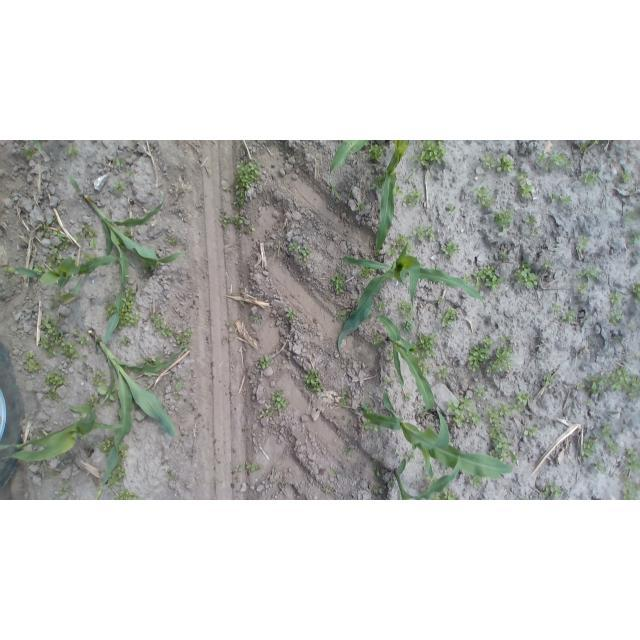Maize: (69, 176, 184, 354), (338, 240, 486, 361), (67, 331, 175, 486), (363, 392, 513, 478), (1, 407, 124, 461), (378, 315, 438, 411), (15, 255, 137, 302), (376, 140, 408, 254), (394, 456, 460, 500), (332, 140, 369, 201)
Weeds: (607, 365, 639, 400), (236, 162, 260, 207), (487, 346, 513, 372), (488, 405, 507, 440), (41, 317, 61, 348), (515, 261, 537, 289), (467, 346, 490, 372), (420, 146, 442, 166), (517, 172, 534, 196), (475, 188, 495, 208), (586, 376, 605, 397), (82, 224, 98, 248), (305, 370, 323, 391), (622, 477, 638, 500), (493, 210, 513, 228), (417, 333, 436, 351), (47, 374, 66, 391), (575, 264, 598, 278), (125, 288, 135, 320), (625, 452, 640, 473), (485, 276, 503, 292), (93, 373, 106, 395), (497, 156, 514, 172), (536, 154, 552, 171), (583, 438, 595, 458), (272, 392, 287, 408), (61, 344, 76, 359), (399, 301, 413, 317), (331, 274, 345, 290), (404, 190, 420, 204), (114, 492, 138, 501), (471, 270, 485, 285), (370, 144, 383, 160), (447, 403, 463, 416), (123, 306, 134, 324), (179, 329, 192, 344), (256, 356, 271, 369), (606, 436, 618, 452), (468, 410, 480, 425), (580, 172, 596, 183), (438, 314, 451, 327), (460, 396, 473, 409), (446, 242, 460, 254), (413, 227, 425, 241), (150, 315, 162, 329), (484, 156, 496, 169), (554, 153, 567, 165), (470, 478, 482, 491), (162, 323, 173, 337), (544, 374, 556, 386), (27, 361, 40, 372), (237, 216, 250, 227), (246, 461, 259, 472), (500, 404, 511, 417), (341, 391, 351, 405), (444, 491, 459, 500), (403, 320, 414, 332), (484, 266, 495, 278), (610, 311, 622, 322), (47, 253, 59, 264), (299, 249, 311, 260), (496, 440, 508, 451), (516, 394, 528, 405), (610, 293, 623, 303), (525, 427, 538, 437), (396, 233, 405, 247), (622, 172, 633, 183), (566, 310, 576, 322), (632, 284, 640, 299), (547, 486, 562, 494), (69, 143, 79, 155), (557, 196, 571, 204), (475, 387, 486, 397), (446, 309, 457, 319), (426, 229, 436, 240), (114, 180, 125, 190), (25, 148, 36, 158), (578, 283, 587, 295), (118, 468, 126, 481), (499, 333, 510, 342), (378, 301, 387, 312), (602, 425, 611, 436), (289, 242, 300, 251), (510, 403, 522, 411), (439, 368, 448, 378), (360, 267, 369, 277), (336, 309, 346, 318), (116, 157, 125, 167), (222, 214, 232, 223), (500, 449, 508, 460), (105, 303, 112, 315), (580, 145, 589, 154), (387, 248, 397, 256), (103, 441, 111, 451), (484, 336, 493, 344), (595, 462, 604, 470), (581, 238, 588, 248), (427, 350, 438, 356), (253, 314, 261, 322), (287, 313, 296, 320), (539, 491, 548, 498), (530, 216, 537, 224), (576, 383, 584, 390), (631, 236, 638, 244), (234, 465, 242, 472), (26, 352, 34, 359), (83, 253, 91, 260), (323, 487, 332, 493), (501, 253, 507, 260), (543, 261, 549, 268), (554, 305, 560, 312), (128, 170, 135, 176), (120, 446, 127, 452), (376, 469, 381, 476), (594, 140, 601, 144), (576, 246, 580, 250), (587, 400, 590, 405)
